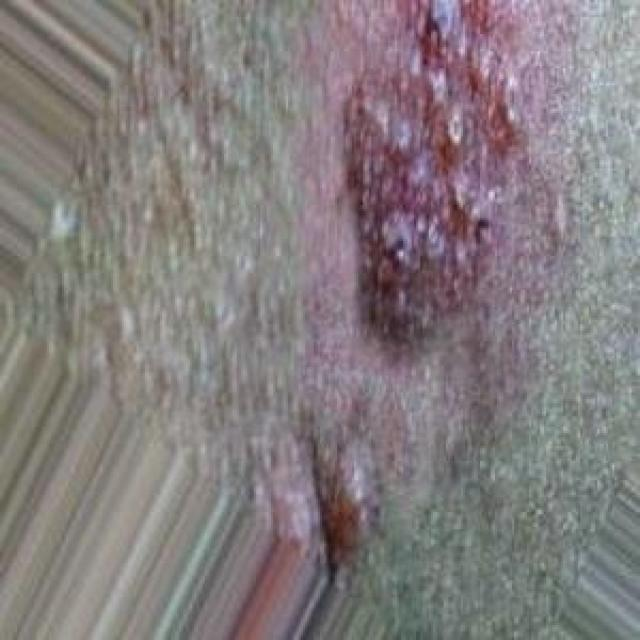Shingles: (351, 0, 532, 342)
